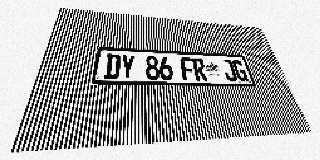6: (159, 56, 174, 80)
8: (145, 56, 160, 80)
D: (104, 54, 121, 79)
F: (180, 57, 195, 81)
G: (231, 60, 249, 82)
J: (221, 59, 238, 81)
R: (192, 58, 208, 81)
Y: (120, 54, 135, 80)
